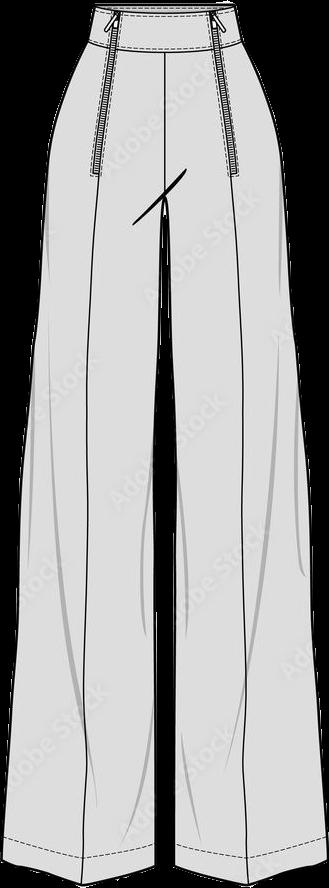Hemline: (171, 850, 328, 887), (1, 852, 166, 887)
Pantleg: (161, 0, 326, 883), (3, 0, 164, 884)
Waistline: (84, 33, 250, 57), (90, 0, 238, 17)
